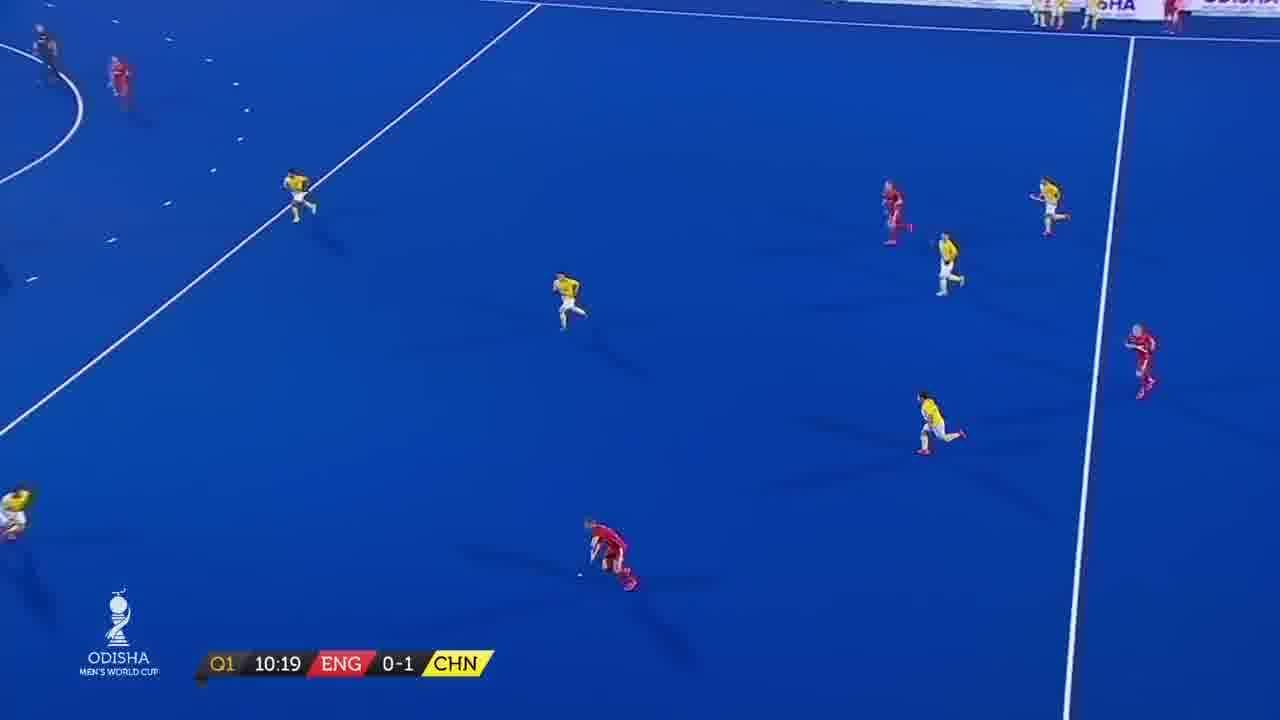ball: (570, 567, 586, 584)
